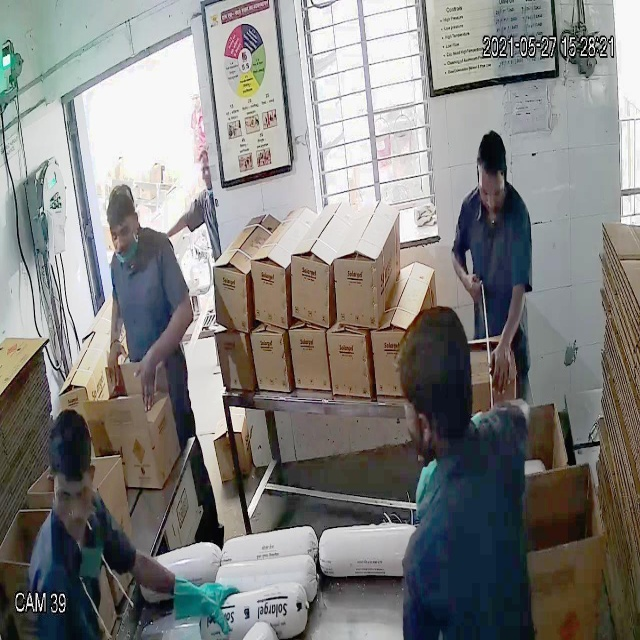Sin_gafas: (475, 180, 510, 204), (107, 220, 136, 247)
